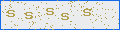s: (83, 9, 91, 16), (61, 13, 69, 20), (46, 8, 54, 15), (25, 12, 33, 19), (8, 10, 15, 18)
